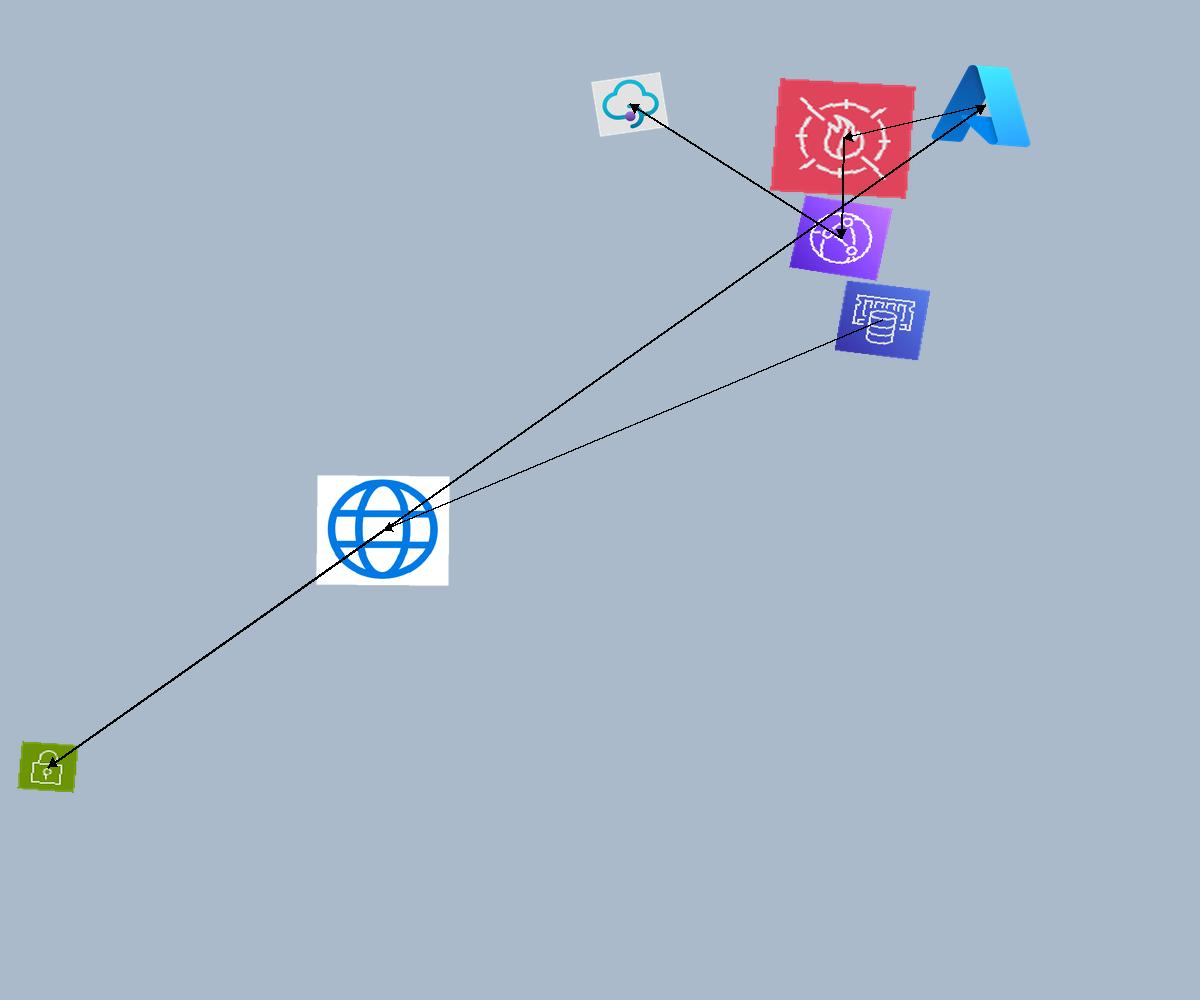AWS-CloudFront: (789, 195, 893, 281)
AWS-ElastiCache: (834, 280, 931, 361)
AWS-Public-subnet: (17, 741, 79, 793)
AWS-WAF: (770, 78, 916, 199)
Azure_api_gateway: (591, 72, 669, 137)
Azure_http: (316, 475, 450, 586)
Azure_services: (926, 56, 1044, 154)
